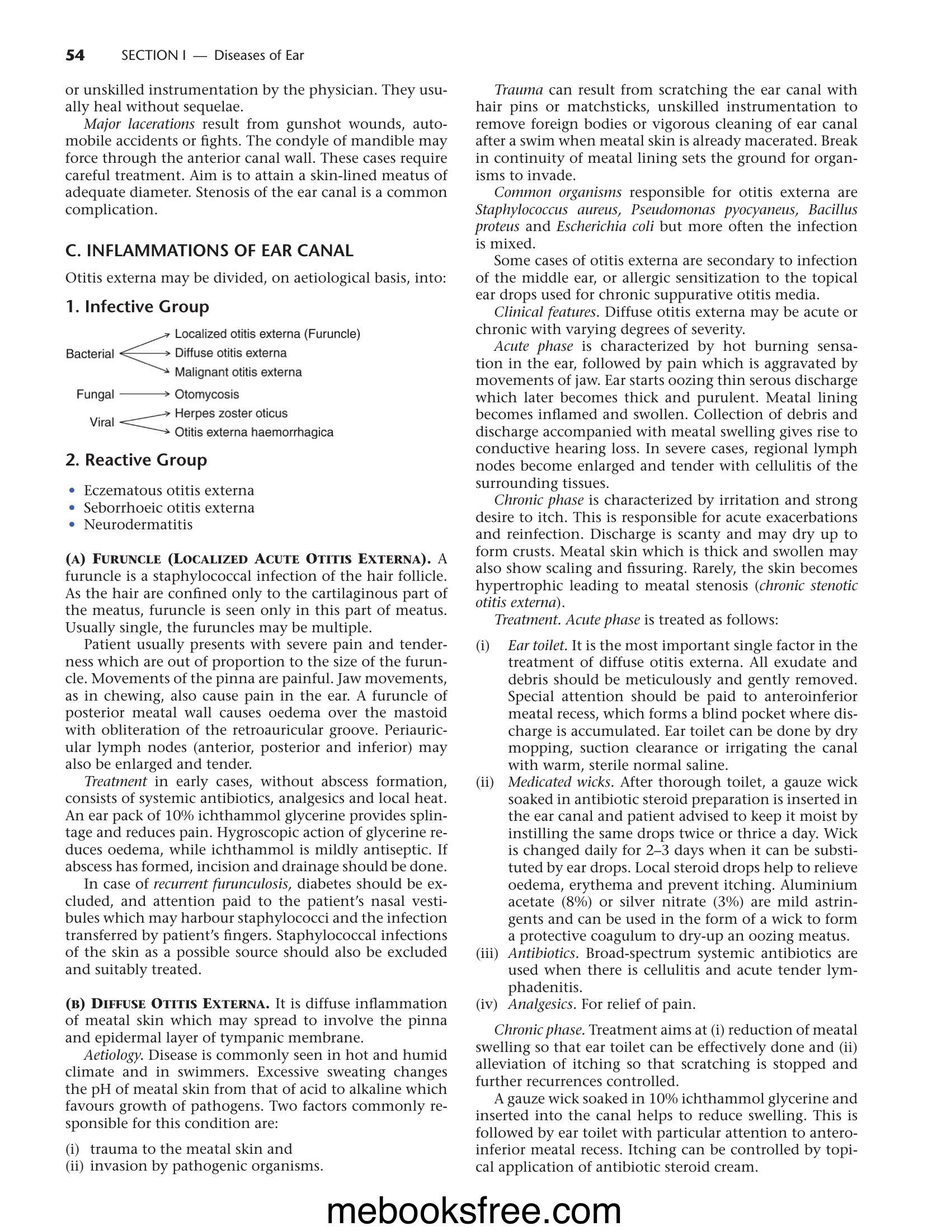header: (120, 47, 306, 62)
list: (475, 636, 859, 1014), (62, 296, 363, 533), (64, 1140, 325, 1176)
sub-section-heading: (63, 241, 355, 257)
text: (61, 549, 449, 1133), (473, 81, 860, 630), (474, 1022, 859, 1177), (63, 81, 449, 220), (64, 270, 447, 287)
